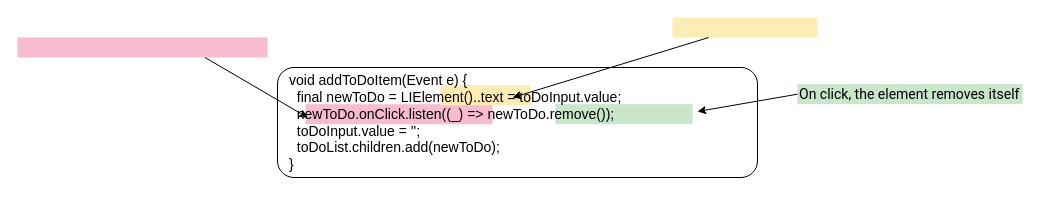
Some shapes in this 1039 by 203 pixel diagram are drawn without their labels. The shapes that lost their labels are listed below. From the top down, each one's centre as x and y in pixels, then its label:
the point at 142,47: Add an event handler for mouse clicks
the point at 744,27: Create a new element
